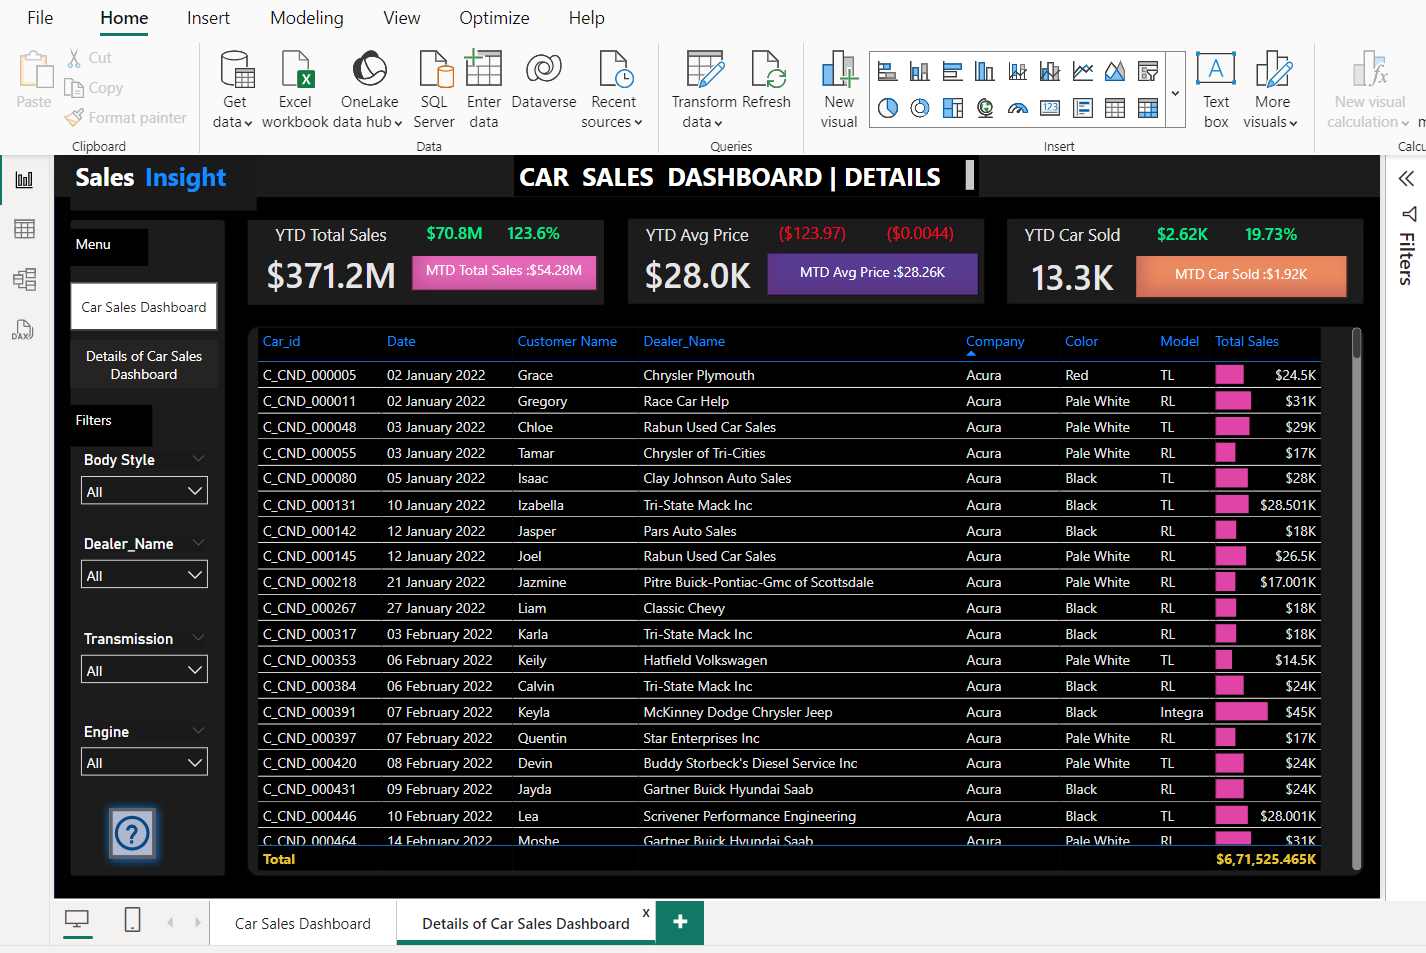

The dashboard page shown, as its layout file describes it:
{"tool":"powerbi","page":{"name":"Details of Car Sales Dashboard","canvas":[1280,720],"ordinal":1},"visuals":[{"type":"card","title":"YTD Total Sales","fields":{"Values":["car_data.YTD total sales"]},"box":[189,64.9,155.8,79.4],"z":0},{"type":"card","fields":{"Values":["car_data.Sales Difference"]},"box":[339,53.4,95.2,49.1],"z":1000},{"type":"card","fields":{"Values":["car_data.YOY Sales Growth"]},"box":[419.8,54.8,86.6,46.2],"z":2000},{"type":"card","fields":{"Values":["car_data.MTD KPI"]},"box":[344.8,96.7,178.9,34.6],"z":3000},{"type":"card","title":"YTD Avg Price","fields":{"Values":["car_data.YTD Avg Price"]},"box":[542.5,64.9,155.8,79.4],"z":4000},{"type":"card","fields":{"Values":["car_data.Avg Price Diff"]},"box":[673.8,54.8,116.9,46.2],"z":5000},{"type":"card","fields":{"Values":["car_data.YOY Avg Price Growth"]},"box":[777.6,53.4,115.4,49.1],"z":6000},{"type":"card","fields":{"Values":["car_data.MTD AVG Price KPI"]},"box":[688.2,93.8,204.9,41.8],"z":7000},{"type":"card","title":"YTD Car Sold","fields":{"Values":["car_data.YTD Car Sold"]},"box":[907.5,64.9,151.5,83.7],"z":8000},{"type":"card","fields":{"Values":["car_data.Car Sold Diff"]},"box":[1043.1,59.2,90.9,39],"z":9000},{"type":"card","fields":{"Values":["car_data.YOY Car Sold Growth"]},"box":[1121,59.2,108.2,39],"z":10000},{"type":"card","fields":{"Values":["car_data.MTD Car Sold KPI"]},"box":[1043.1,96.7,204.9,41.8],"z":11000},{"type":"textbox","box":[444.4,0,448.7,40.4],"z":17000},{"type":"slicer","fields":{"Values":["car_data.Body Style"]},"box":[15.9,281.3,142.8,79.4],"z":18000},{"type":"slicer","fields":{"Values":["car_data.Dealer_Name"]},"box":[15.9,362.1,142.8,79.4],"z":19000},{"type":"slicer","fields":{"Values":["car_data.Transmission"]},"box":[15.9,453,142.8,79.4],"z":20000},{"type":"slicer","fields":{"Values":["car_data.Engine"]},"box":[15.9,542.5,142.8,79.4],"z":21000},{"type":"textbox","box":[15.9,240.9,79.4,40.4],"z":22000},{"type":"tableEx","fields":{"Values":["car_data.Car_id","car_data.Date","car_data.Customer Name","car_data.Dealer_Name","car_data.Company","car_data.Color","car_data.Model","car_data.Price ($)"]},"box":[190.4,161.6,1076.3,533.8],"z":22001},{"type":"pageNavigator","box":[15.9,122.6,142.8,103.9],"z":22002},{"type":"textbox","box":[15.9,70.7,75,36.1],"z":22003},{"type":"textbox","box":[15.9,0,180.3,53.4],"z":22004},{"type":"actionButton","box":[44.7,621.8,62,66.4],"z":22005}]}

Visuals, with their boxes on the page's 1280x720 design canvas (x1, y1, x2, y2). These are canvas units, not pixel positions in the 1426x953 screenshot, which may show the page scaled, cropped or inside an application window:
"YTD Total Sales" card: box=[189, 65, 345, 144]
card - car_data.Sales Difference: box=[339, 53, 434, 102]
card - car_data.YOY Sales Growth: box=[420, 55, 506, 101]
card - car_data.MTD KPI: box=[345, 97, 524, 131]
"YTD Avg Price" card: box=[542, 65, 698, 144]
card - car_data.Avg Price Diff: box=[674, 55, 791, 101]
card - car_data.YOY Avg Price Growth: box=[778, 53, 893, 102]
card - car_data.MTD AVG Price KPI: box=[688, 94, 893, 136]
"YTD Car Sold" card: box=[908, 65, 1059, 149]
card - car_data.Car Sold Diff: box=[1043, 59, 1134, 98]
card - car_data.YOY Car Sold Growth: box=[1121, 59, 1229, 98]
card - car_data.MTD Car Sold KPI: box=[1043, 97, 1248, 138]
textbox: box=[444, 0, 893, 40]
slicer - car_data.Body Style: box=[16, 281, 159, 361]
slicer - car_data.Dealer_Name: box=[16, 362, 159, 442]
slicer - car_data.Transmission: box=[16, 453, 159, 532]
slicer - car_data.Engine: box=[16, 542, 159, 622]
textbox: box=[16, 241, 95, 281]
tableEx - car_data.Car_id x car_data.Date: box=[190, 162, 1267, 695]
pageNavigator: box=[16, 123, 159, 226]
textbox: box=[16, 71, 91, 107]
textbox: box=[16, 0, 196, 53]
actionButton: box=[45, 622, 107, 688]
